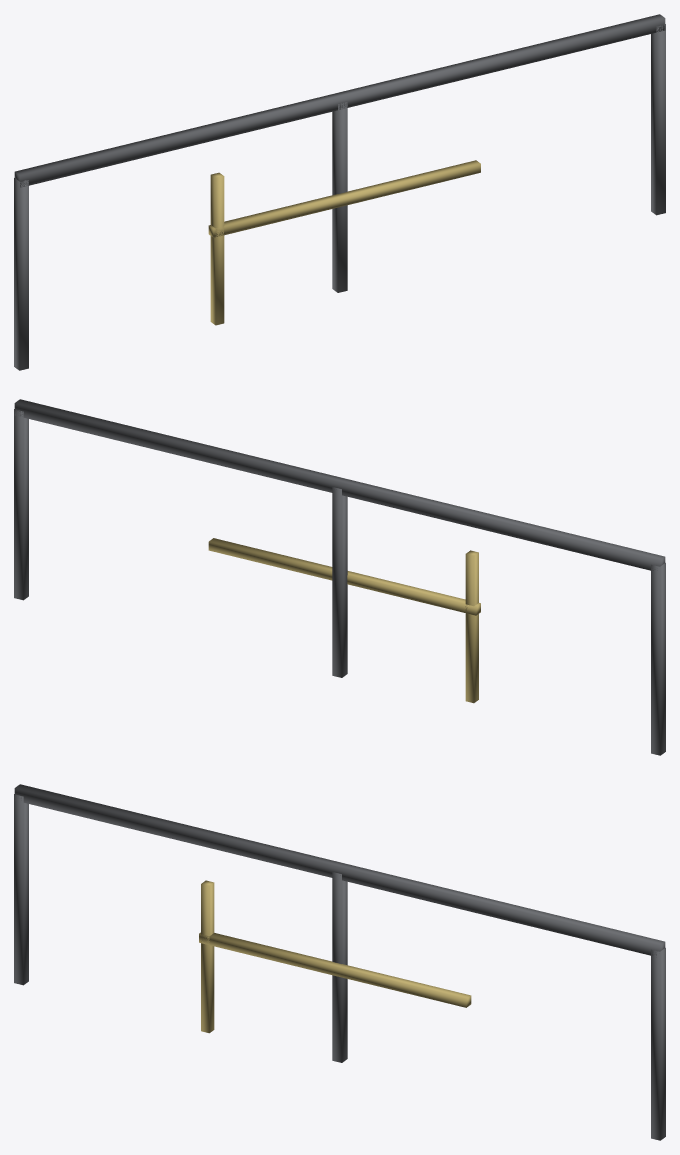
Rendered from steel_gate_l300_h85.glb.
The picture shows the model from 3 angles, top to bottom: view 1: azimuth 30°, elevation 25°; view 2: azimuth 150°, elevation 25°; view 3: azimuth 330°, elevation 25°; orthographic projection.
Visible parts, largest first — view 1: world; view 2: world; view 3: world.
Boxes of the visible parts, x1,y1,x2,y2 form: world: (14, 14, 665, 370); world: (14, 399, 665, 755); world: (14, 784, 665, 1140).
Size of the model in its own units: 3.05 by 0.8775 by 0.0825.
